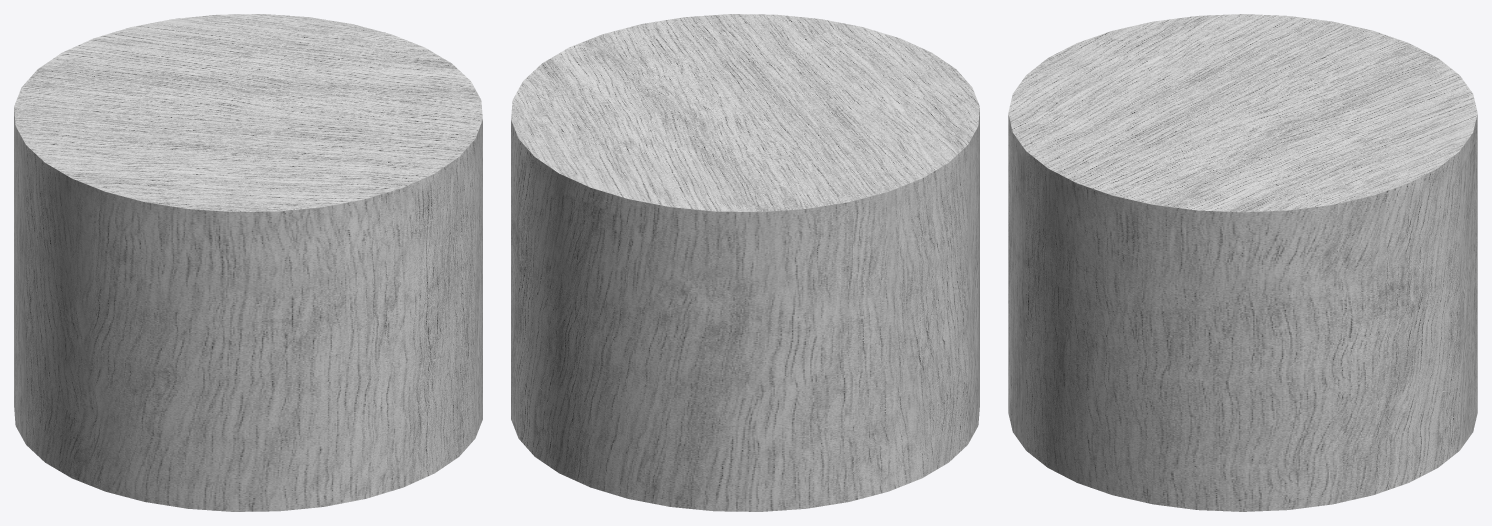
File: pawn.obj
3 renders of one model, left to right at view 1: azimuth 30°, elevation 25°; view 2: azimuth 150°, elevation 25°; view 3: azimuth 270°, elevation 25°, orthographic.
Visible parts, largest first — view 1: pawn; view 2: pawn; view 3: pawn.
Part boxes in pixels (left/top/right/bottom): pawn: left=14, top=14, right=482, bottom=511; pawn: left=511, top=14, right=979, bottom=511; pawn: left=1008, top=14, right=1477, bottom=511.
Bounding box in the file's own units: 1.3 × 0.9148 × 1.3.
